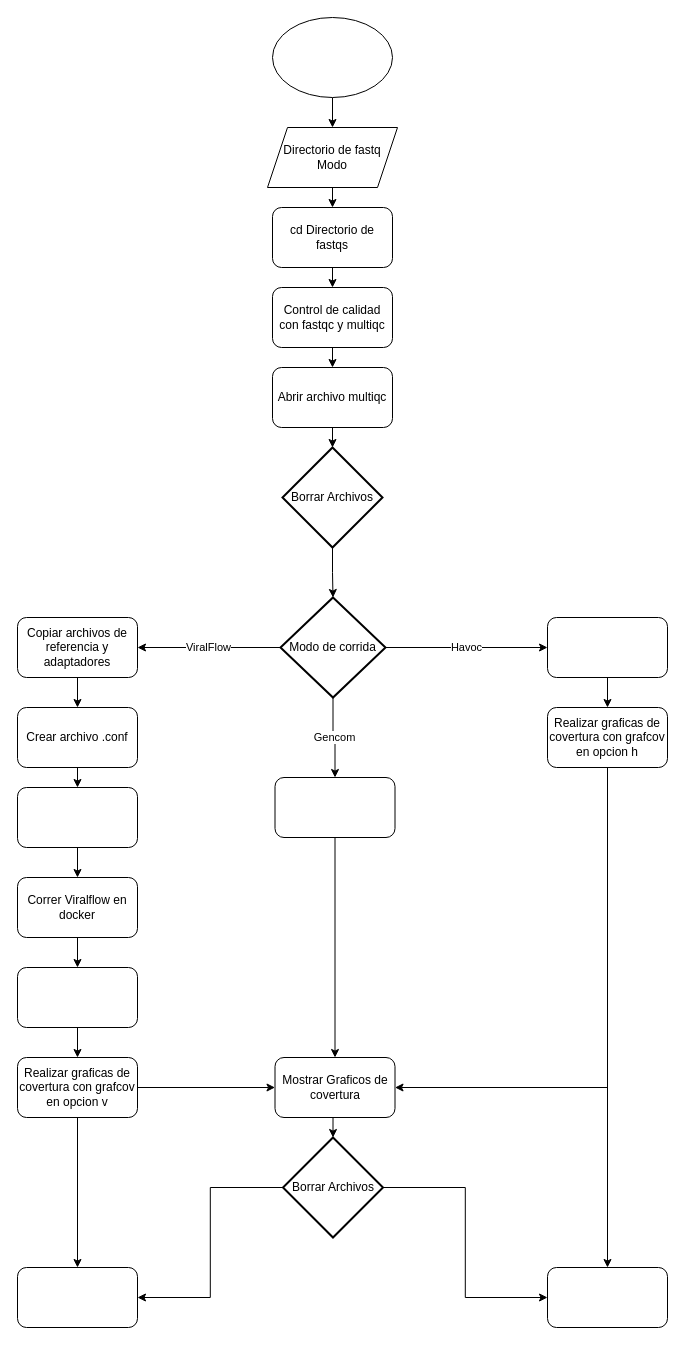
Image size: 685x1345. Some labels were removed from this diagram. The box of each missing label's shape, as (x1, y1, x2, y2) in pixels:
chmod 777 results folders: (16, 966, 138, 1028)
Construir Docker: (16, 786, 138, 848)
Correr havoc pasando directorio: (546, 616, 668, 678)
Correr version de gencom modificada pasando el directorio: (274, 776, 395, 838)
Inicio: (272, 16, 392, 98)
Unir csvs con pcsv en modo h: (546, 1266, 668, 1328)
Unir csvs con pcsv en modo v: (16, 1266, 138, 1328)
